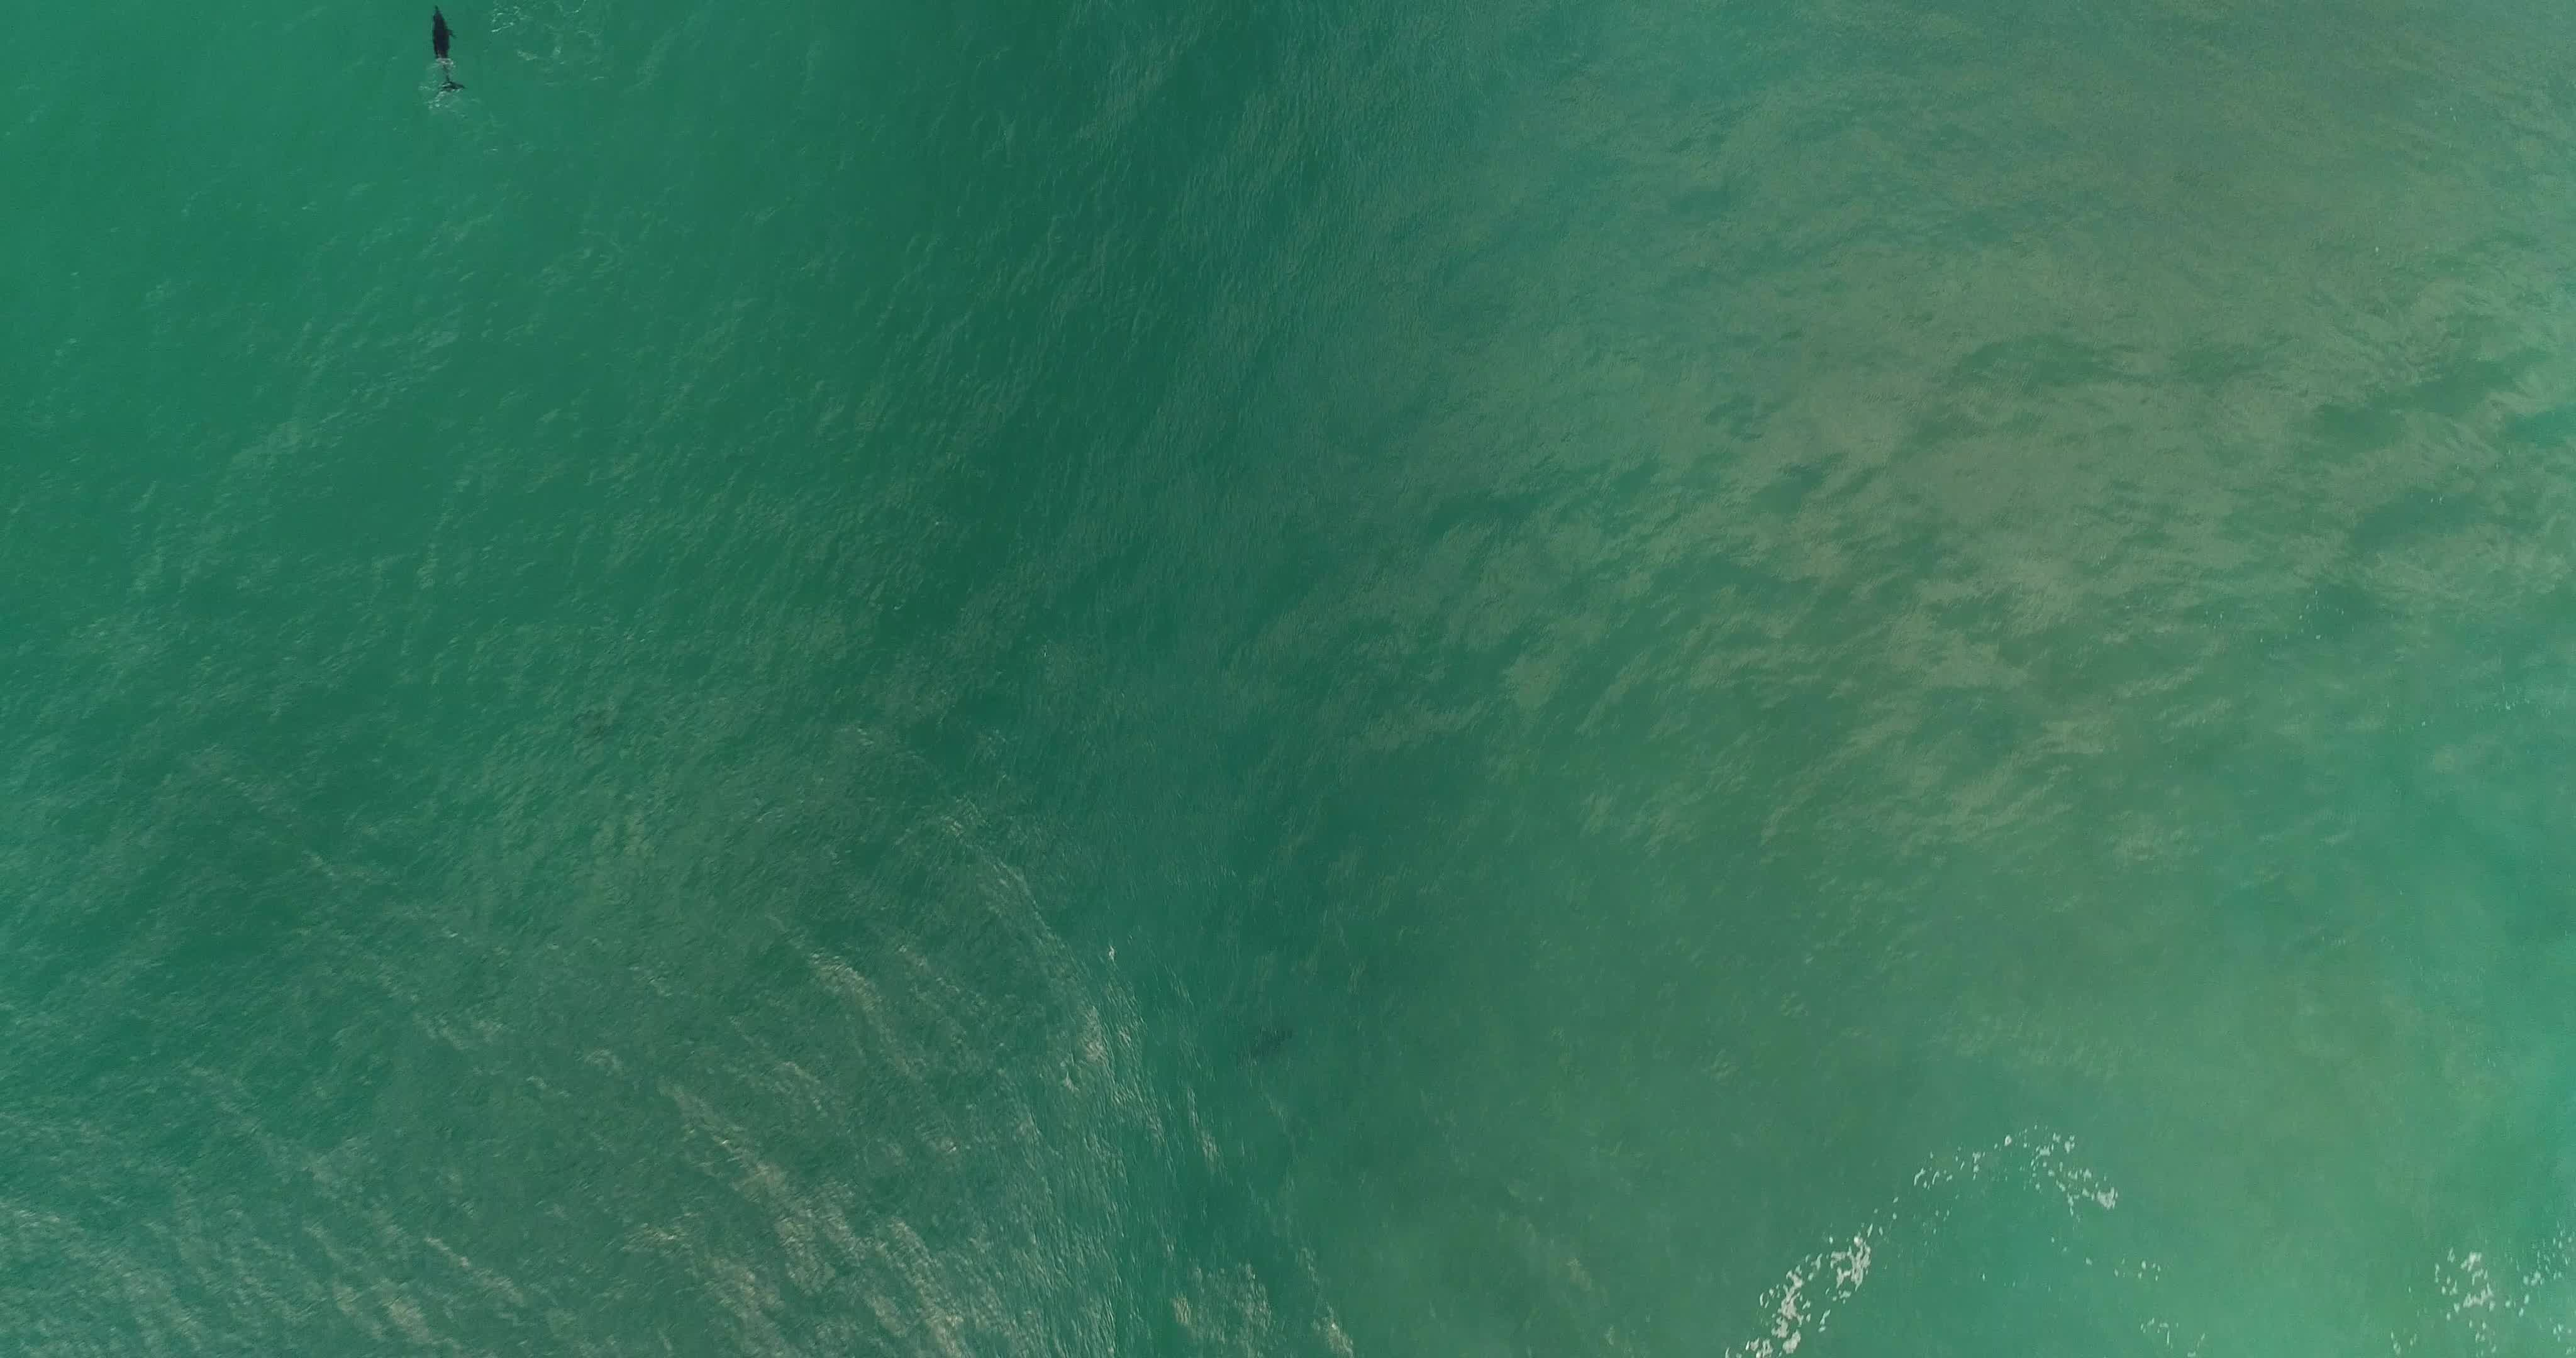shark: (419, 7, 467, 95)
